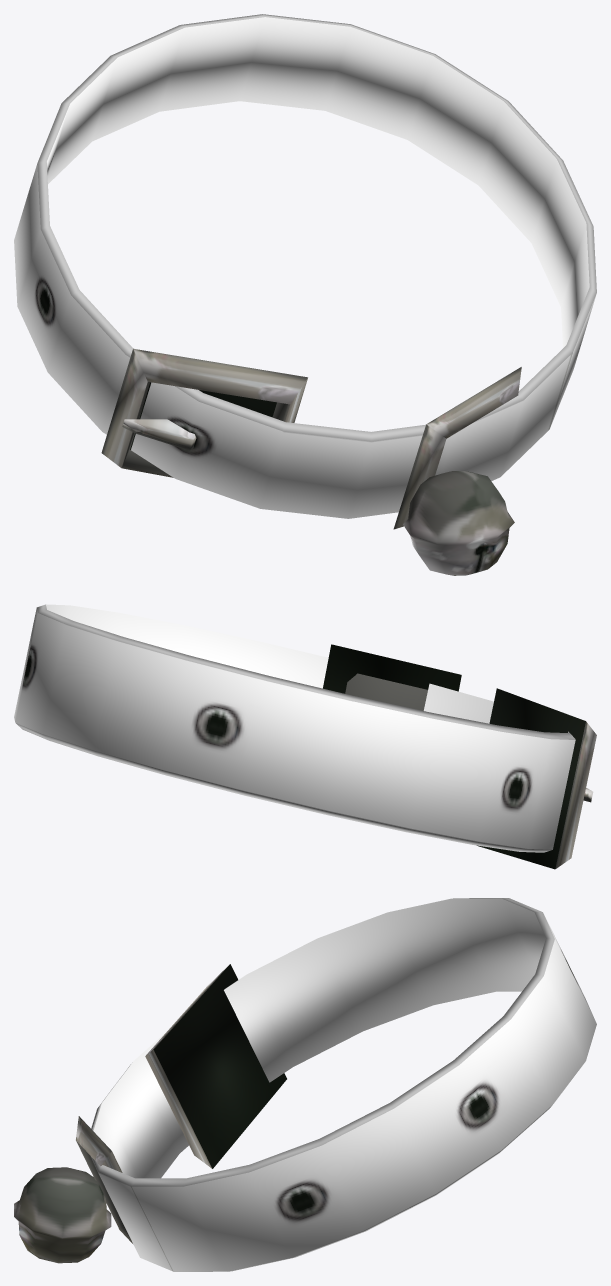
Rendered from collar2.fbx.
The picture shows the model from 3 angles, top to bottom: view 1: azimuth 30°, elevation 25°; view 2: azimuth 150°, elevation 25°; view 3: azimuth 270°, elevation 25°; orthographic projection. The views are drawn at different scales.
Parts seen in each view (by area): view 1: カスタム少女_mesh; view 2: カスタム少女_mesh; view 3: カスタム少女_mesh.
Part boxes in pixels (box(x1,y1,x2,y2)): カスタム少女_mesh: box(14, 14, 596, 575); カスタム少女_mesh: box(14, 604, 596, 869); カスタム少女_mesh: box(14, 898, 596, 1271).
Bounding box in the file's own units: 10.72 × 7.24 × 12.1.
2 materials, 2 textured.
